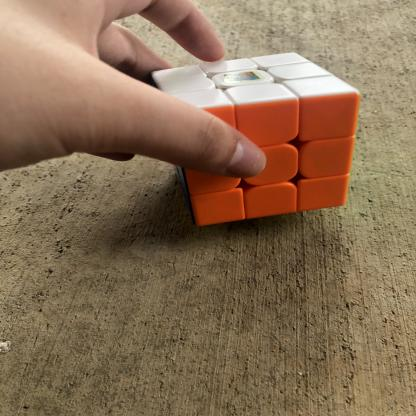SolvedCube: (145, 47, 368, 235)
